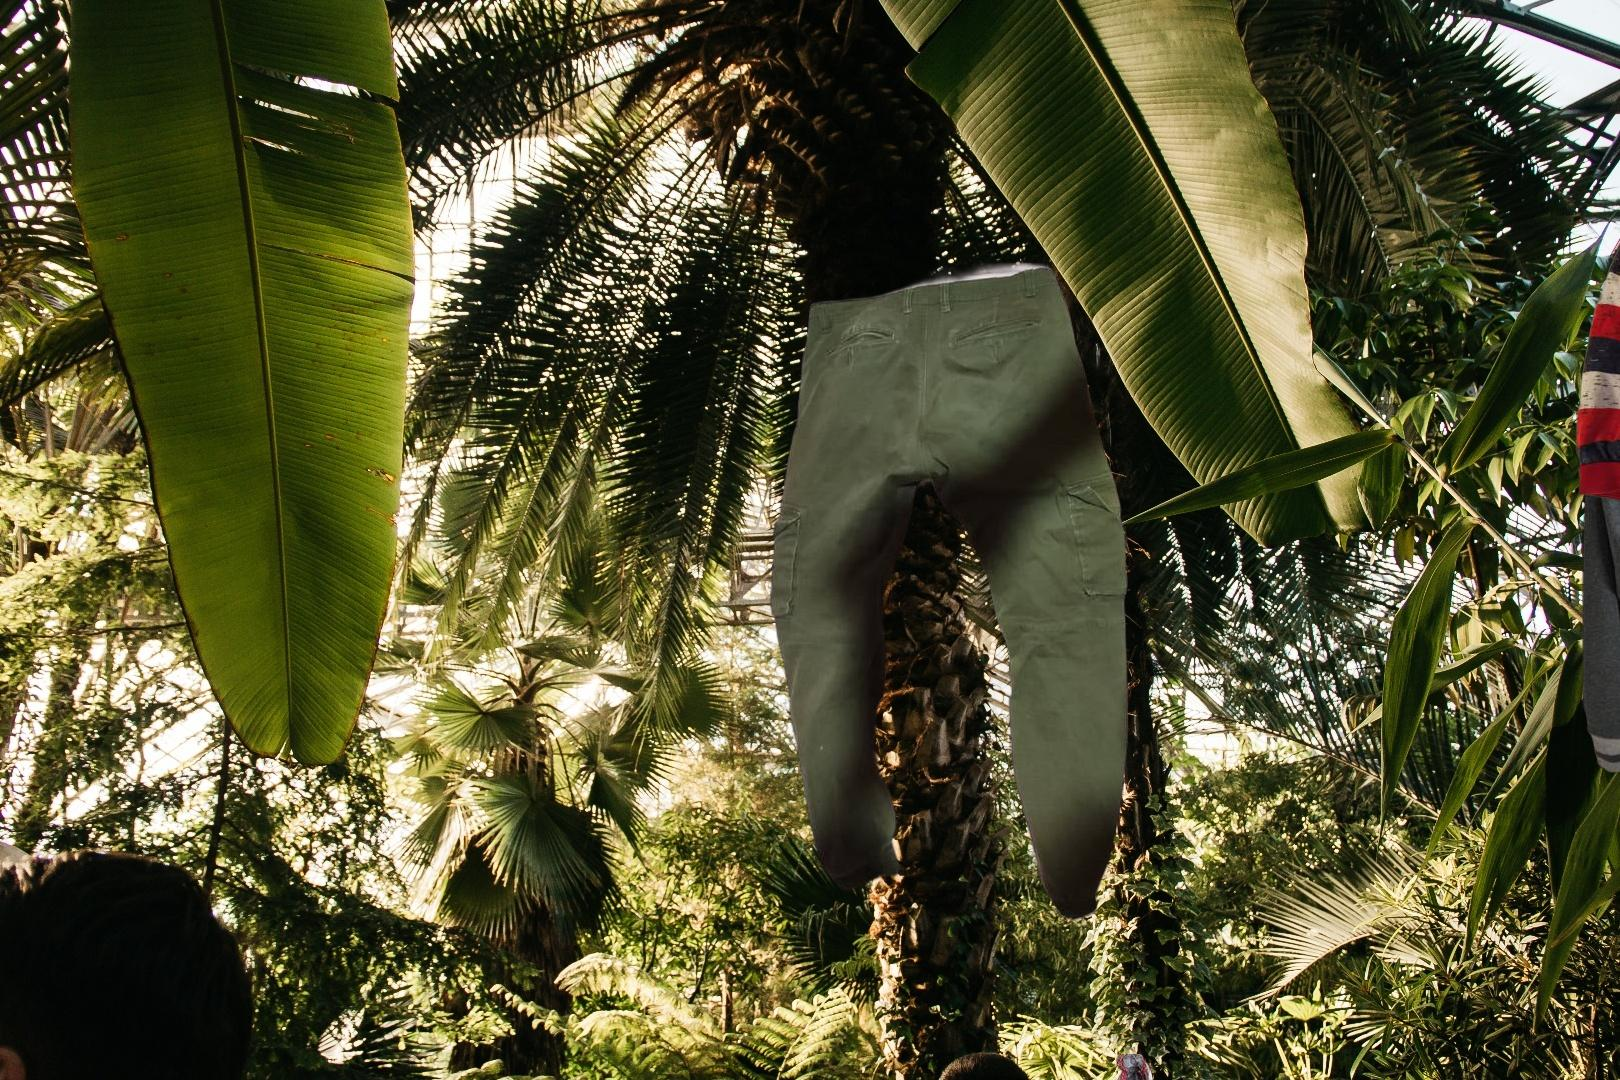clothes: (768, 254, 1131, 927), (1579, 305, 1620, 834), (1572, 168, 1620, 543)
shoes: (1045, 1054, 1160, 1080)
